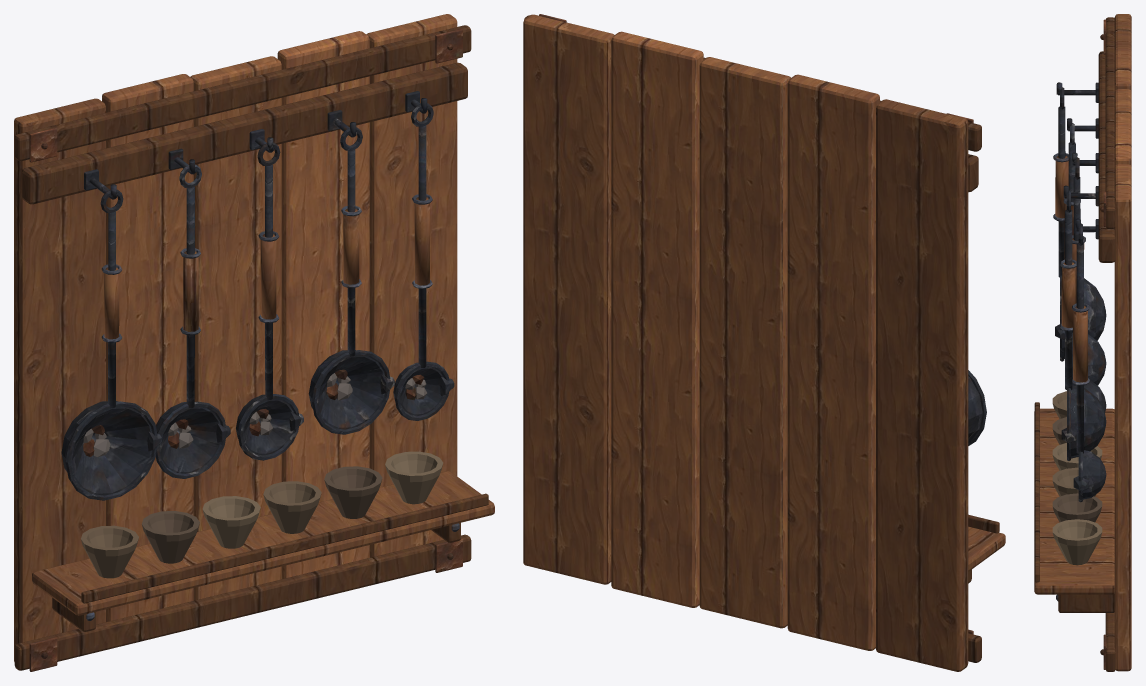
File: cf_ladle_rack.glb
3 views of the same model, side by side, from view 1: azimuth 30°, elevation 25°; view 2: azimuth 150°, elevation 25°; view 3: azimuth 270°, elevation 25° (orthographic). The views are drawn at different scales.
Parts seen in each view (by area): view 1: model; view 2: model; view 3: model.
Boxes of the visible parts, left/top/right/bottom form: model: left=14, top=14, right=494, bottom=671; model: left=523, top=14, right=1005, bottom=671; model: left=1034, top=14, right=1131, bottom=671.
Size of the model in its own units: 1.34 by 1.56 by 0.287.
12 materials, 8 textured.
